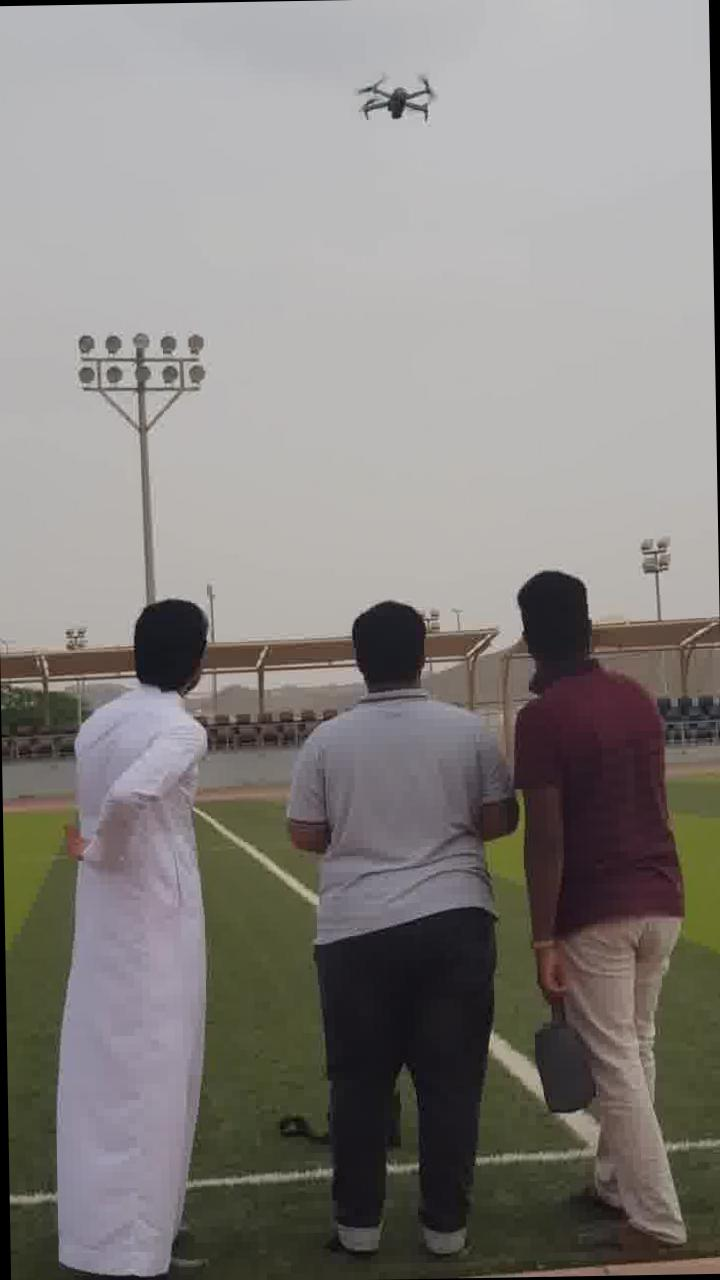drone: (349, 72, 445, 138)
